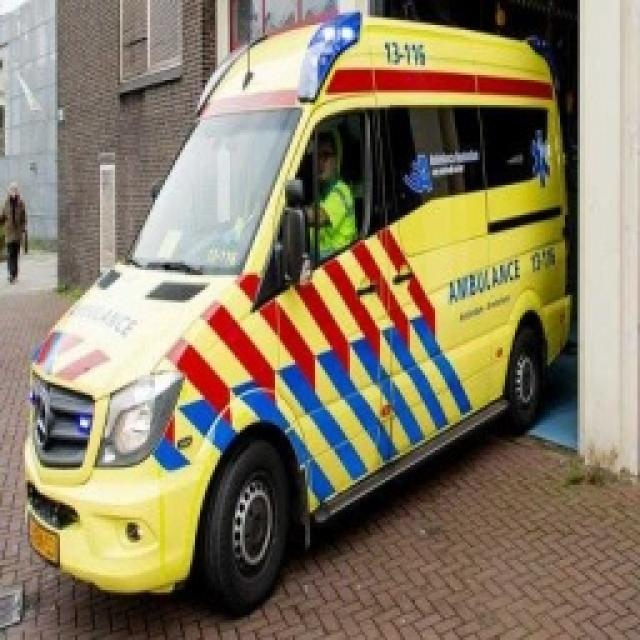emergency-vehicle: (35, 17, 573, 609)
